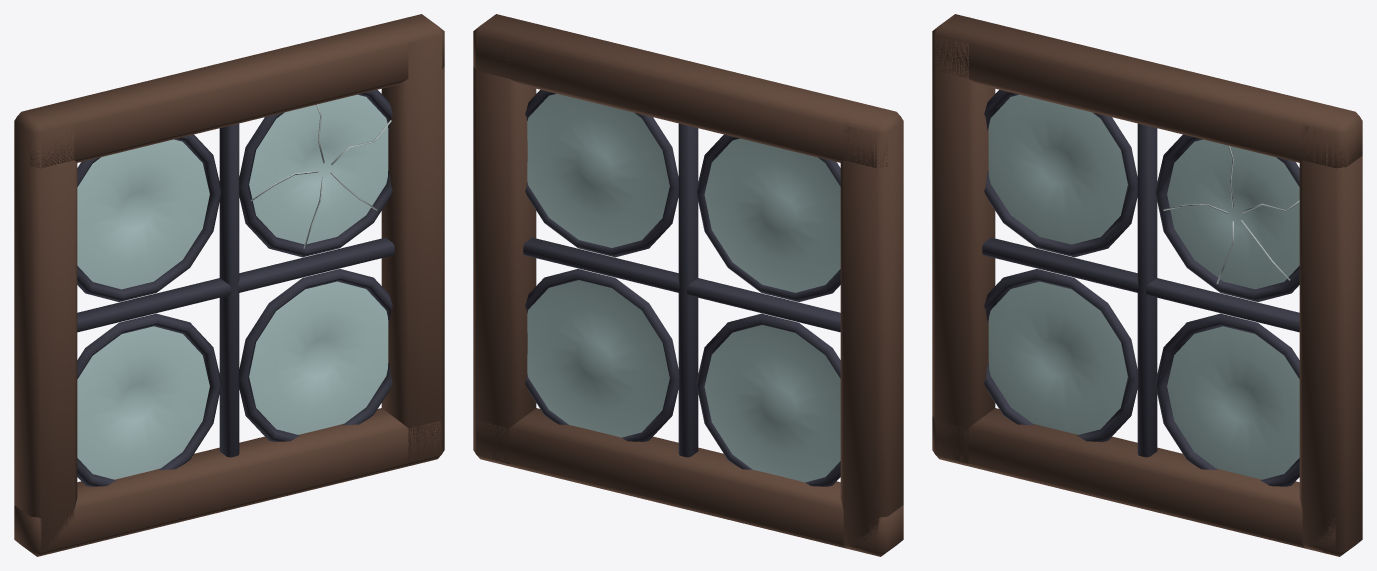
File: cottage_window_cracked.glb
The picture shows the model from 3 angles, left to right: view 1: azimuth 30°, elevation 25°; view 2: azimuth 150°, elevation 25°; view 3: azimuth 330°, elevation 25°; orthographic projection.
Parts seen in each view (by area): view 1: cottage_window_cracked; view 2: cottage_window_cracked; view 3: cottage_window_cracked.
Boxes of the visible parts, box(x1,y1,x2,y2) form: cottage_window_cracked: box(14, 14, 444, 556); cottage_window_cracked: box(473, 14, 903, 556); cottage_window_cracked: box(932, 14, 1362, 556).
Size of what is drawn, in the model's own units: 0.7 by 0.7 by 0.07.
